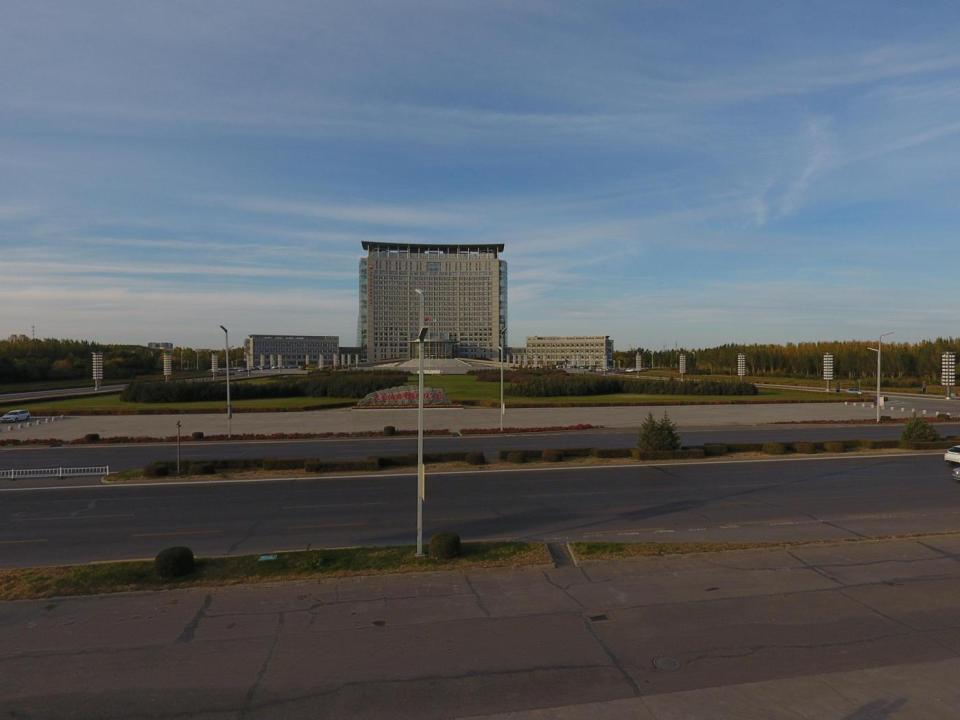car: (0, 410, 31, 422), (845, 387, 866, 397)
